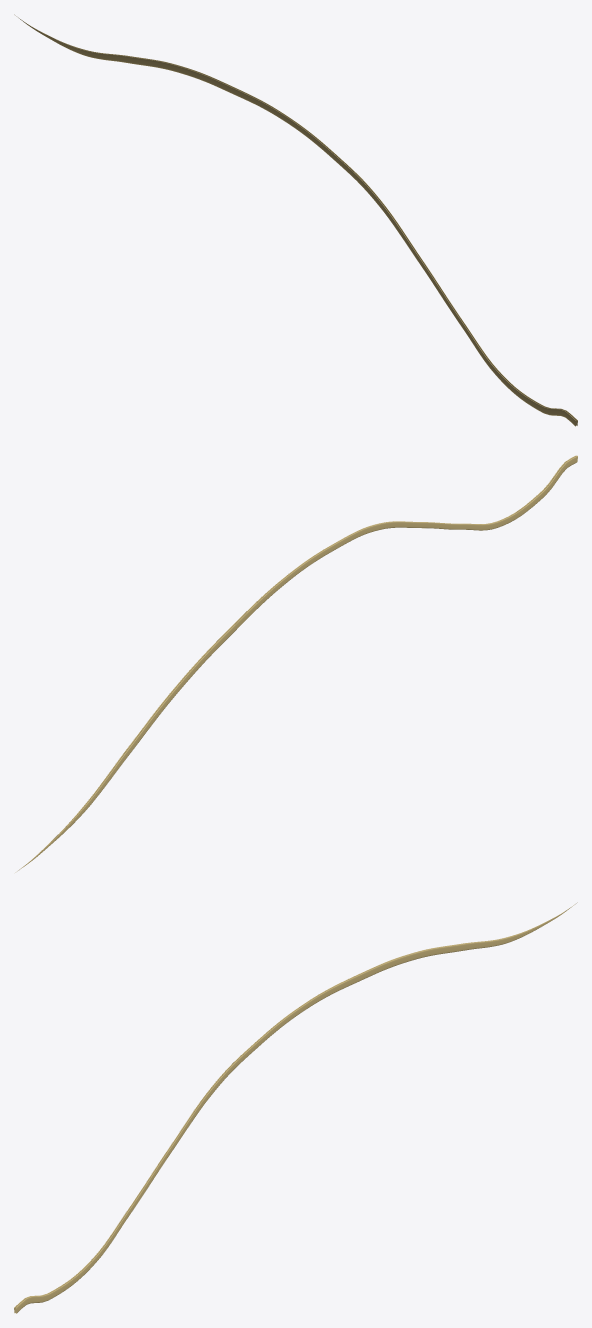
3 renders of one model, top to bottom at view 1: azimuth 30°, elevation 25°; view 2: azimuth 150°, elevation 25°; view 3: azimuth 330°, elevation 25°, orthographic.
Visible parts, largest first — view 1: 皮质脊髓前束; view 2: 皮质脊髓前束; view 3: 皮质脊髓前束.
Part boxes in pixels (<box>): 皮质脊髓前束: <box>14,14,577,426</box>; 皮质脊髓前束: <box>15,455,577,872</box>; 皮质脊髓前束: <box>14,902,577,1313</box>.
Size of the model in its own units: 0.00158 by 0.0787 by 0.7211.
